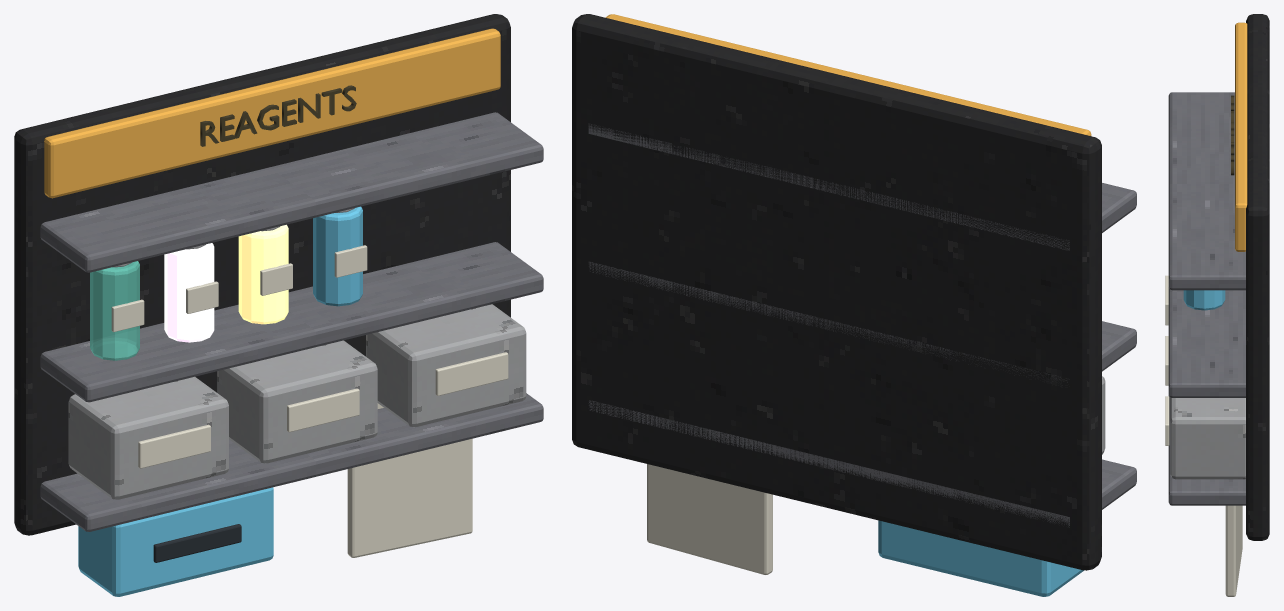
Rendered from decor_chem_supply_shelf.glb.
3 renders of one model, left to right at view 1: azimuth 30°, elevation 25°; view 2: azimuth 150°, elevation 25°; view 3: azimuth 270°, elevation 25°, orthographic. The views are drawn at different scales.
Visible parts, largest first — view 1: DEC_ChemSupplyShelf__Backboard, DEC_ChemSupplyShelf__Shelf_3, DEC_ChemSupplyShelf__Header, DEC_ChemSupplyShelf__Shelf_2, DEC_ChemSupplyShelf__Shelf_1, DEC_ChemSupplyShelf__Supply_Bin_1, DEC_ChemSupplyShelf__Supply_Bin_3, DEC_ChemSupplyShelf__Supply_Bin_2, DEC_ChemSupplyShelf__Glove_Box, DEC_ChemSupplyShelf__Clipboard, DEC_ChemSupplyShelf__Bottle_3, DEC_ChemSupplyShelf__Bottle_2 (+11 smaller); view 2: DEC_ChemSupplyShelf__Backboard, DEC_ChemSupplyShelf__Clipboard, DEC_ChemSupplyShelf__Glove_Box, DEC_ChemSupplyShelf__Shelf_1, DEC_ChemSupplyShelf__Shelf_3, DEC_ChemSupplyShelf__Shelf_2, DEC_ChemSupplyShelf__Header; view 3: DEC_ChemSupplyShelf__Shelf_3, DEC_ChemSupplyShelf__Backboard, DEC_ChemSupplyShelf__Shelf_2, DEC_ChemSupplyShelf__Supply_Bin_3, DEC_ChemSupplyShelf__Header, DEC_ChemSupplyShelf__Shelf_1, DEC_ChemSupplyShelf__Clipboard, DEC_ChemSupplyShelf__Bottle_4, DEC_ChemSupplyShelf__Header_Text, DEC_ChemSupplyShelf__Supply_Bin_Label_3, DEC_ChemSupplyShelf__Supply_Bin_Label_1, DEC_ChemSupplyShelf__Supply_Bin_Label_2.
Part boxes in pixels (box(x1,y1,x2,y2)): DEC_ChemSupplyShelf__Backboard: box(14, 14, 510, 535); DEC_ChemSupplyShelf__Shelf_3: box(40, 112, 543, 272); DEC_ChemSupplyShelf__Header: box(44, 28, 500, 198); DEC_ChemSupplyShelf__Shelf_2: box(40, 242, 543, 402); DEC_ChemSupplyShelf__Shelf_1: box(40, 393, 543, 531); DEC_ChemSupplyShelf__Supply_Bin_1: box(68, 376, 228, 499); DEC_ChemSupplyShelf__Supply_Bin_3: box(366, 304, 526, 427); DEC_ChemSupplyShelf__Supply_Bin_2: box(217, 340, 377, 463); DEC_ChemSupplyShelf__Glove_Box: box(78, 487, 273, 596); DEC_ChemSupplyShelf__Clipboard: box(347, 403, 472, 557); DEC_ChemSupplyShelf__Bottle_3: box(238, 224, 288, 324); DEC_ChemSupplyShelf__Bottle_2: box(164, 243, 214, 342); DEC_ChemSupplyShelf__Backboard: box(572, 14, 1101, 570); DEC_ChemSupplyShelf__Clipboard: box(647, 464, 772, 574); DEC_ChemSupplyShelf__Glove_Box: box(878, 520, 1083, 596); DEC_ChemSupplyShelf__Shelf_1: box(588, 400, 1136, 527); DEC_ChemSupplyShelf__Shelf_3: box(588, 123, 1136, 250); DEC_ChemSupplyShelf__Shelf_2: box(588, 261, 1136, 385); DEC_ChemSupplyShelf__Header: box(605, 14, 1091, 135); DEC_ChemSupplyShelf__Shelf_3: box(1168, 92, 1245, 290); DEC_ChemSupplyShelf__Backboard: box(1246, 14, 1269, 540); DEC_ChemSupplyShelf__Shelf_2: box(1168, 287, 1245, 397); DEC_ChemSupplyShelf__Supply_Bin_3: box(1170, 397, 1245, 479); DEC_ChemSupplyShelf__Header: box(1235, 22, 1247, 251); DEC_ChemSupplyShelf__Shelf_1: box(1168, 395, 1245, 505); DEC_ChemSupplyShelf__Clipboard: box(1225, 505, 1242, 596); DEC_ChemSupplyShelf__Bottle_4: box(1183, 290, 1225, 310); DEC_ChemSupplyShelf__Header_Text: box(1231, 95, 1234, 175); DEC_ChemSupplyShelf__Supply_Bin_Label_3: box(1165, 396, 1169, 445); DEC_ChemSupplyShelf__Supply_Bin_Label_1: box(1165, 275, 1168, 325); DEC_ChemSupplyShelf__Supply_Bin_Label_2: box(1165, 336, 1168, 385).
Bounding box in the file's own units: 1.58 × 1.52 × 0.352.
11 materials, 3 textured.
